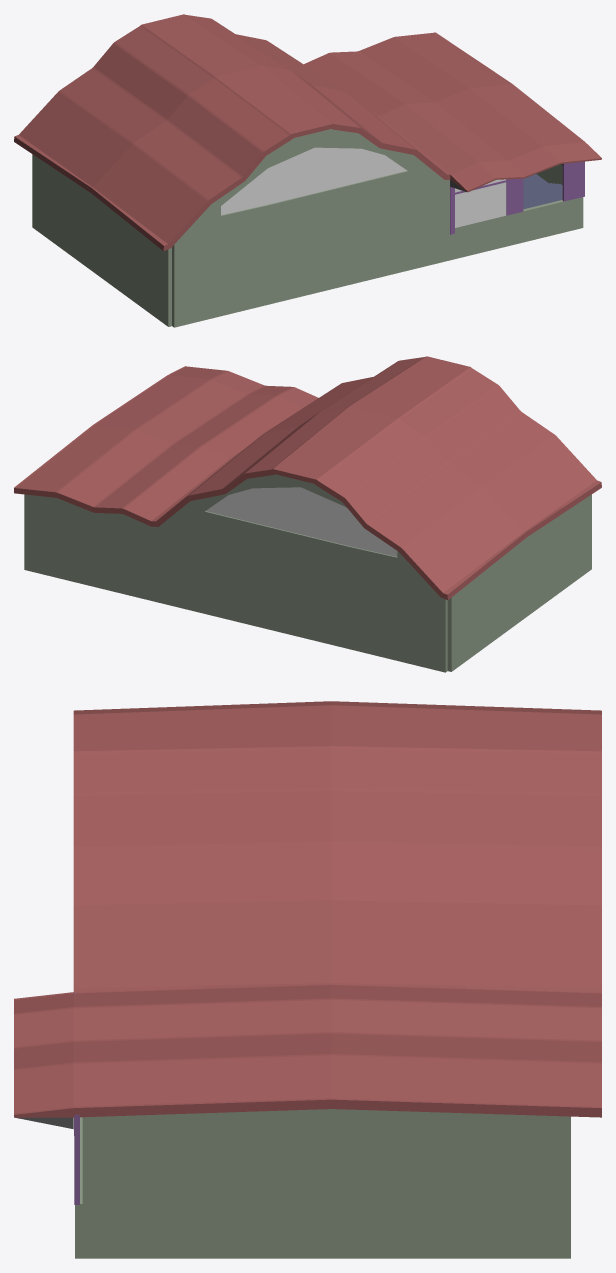
File: Layout1.fbx
3 renders of one model, top to bottom at view 1: azimuth 30°, elevation 25°; view 2: azimuth 150°, elevation 25°; view 3: azimuth 270°, elevation 25°, orthographic. The views are drawn at different scales.
Visible parts, largest first — view 1: Roof.002, Wall Front, Roof, Wall_Left, Entrance Glass, Floor_Ground.001; view 2: Roof.002, Wall Front.001, Roof, Wall_Left; view 3: Roof.002, Roof, Wall_Right, Wall Front.001.
Boxes of the visible parts, <box> form: Roof.002: <box>14,14,450,251</box>; Wall Front: <box>172,129,583,327</box>; Roof: <box>304,32,601,192</box>; Wall_Left: <box>32,154,171,326</box>; Entrance Glass: <box>450,161,584,234</box>; Floor_Ground.001: <box>523,182,562,209</box>; Roof.002: <box>152,356,601,600</box>; Wall Front.001: <box>24,474,447,672</box>; Roof: <box>14,366,318,526</box>; Wall_Left: <box>447,494,591,671</box>; Roof.002: <box>73,701,601,992</box>; Roof: <box>14,984,601,1129</box>; Wall_Right: <box>82,1109,563,1258</box>; Wall Front.001: <box>563,1116,570,1258</box>.
Size of what is drawn, in the model's own units: 2852 by 1097 by 1952.
